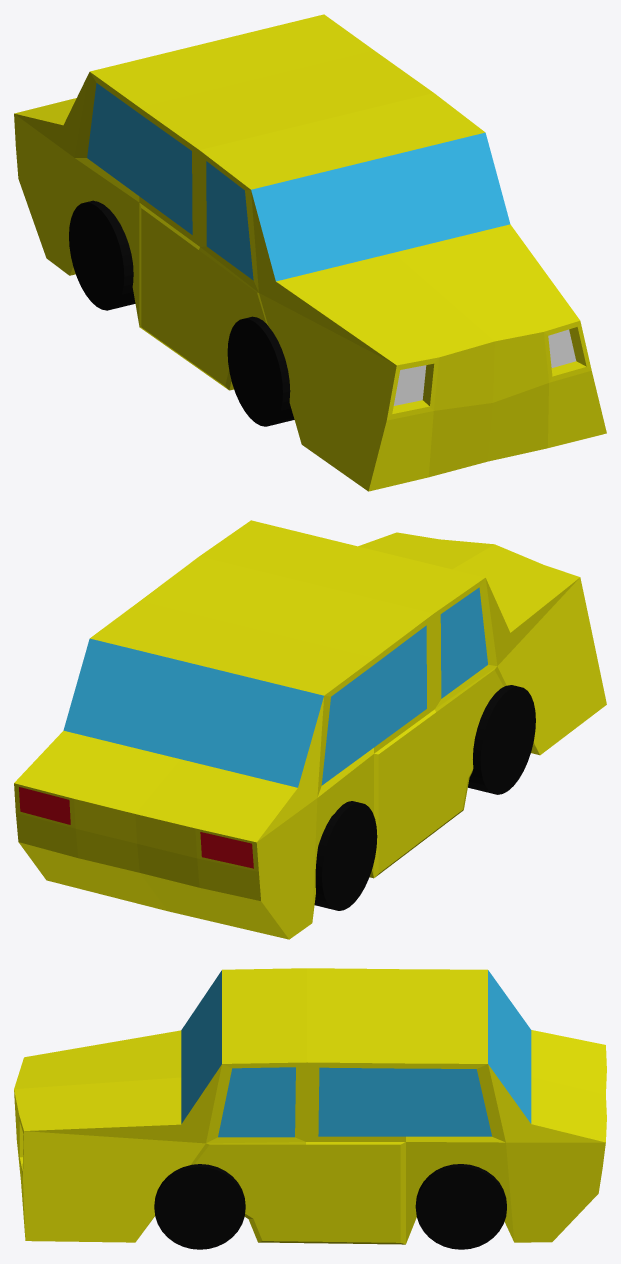
The model's file is coche_item.glb.
The picture shows the model from 3 angles, top to bottom: view 1: azimuth 30°, elevation 25°; view 2: azimuth 150°, elevation 25°; view 3: azimuth 270°, elevation 25°; orthographic projection. The views are drawn at different scales.
Parts seen in each view (by area): view 1: Coche; view 2: Coche; view 3: Coche.
Part boxes in pixels (bbox=[...]): Coche: bbox=[14, 14, 606, 491]; Coche: bbox=[14, 520, 606, 939]; Coche: bbox=[14, 968, 606, 1249].
Bounding box in the file's own units: 2.12 × 1.79 × 5.24.
